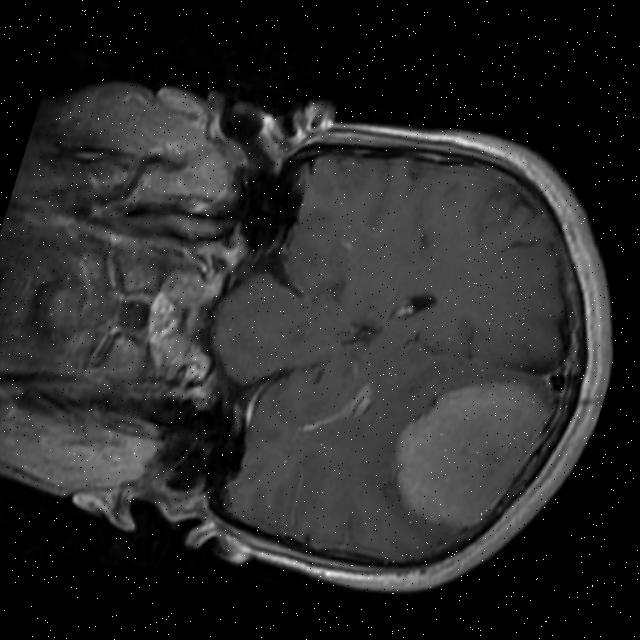Meningioma: (374, 355, 561, 545)
